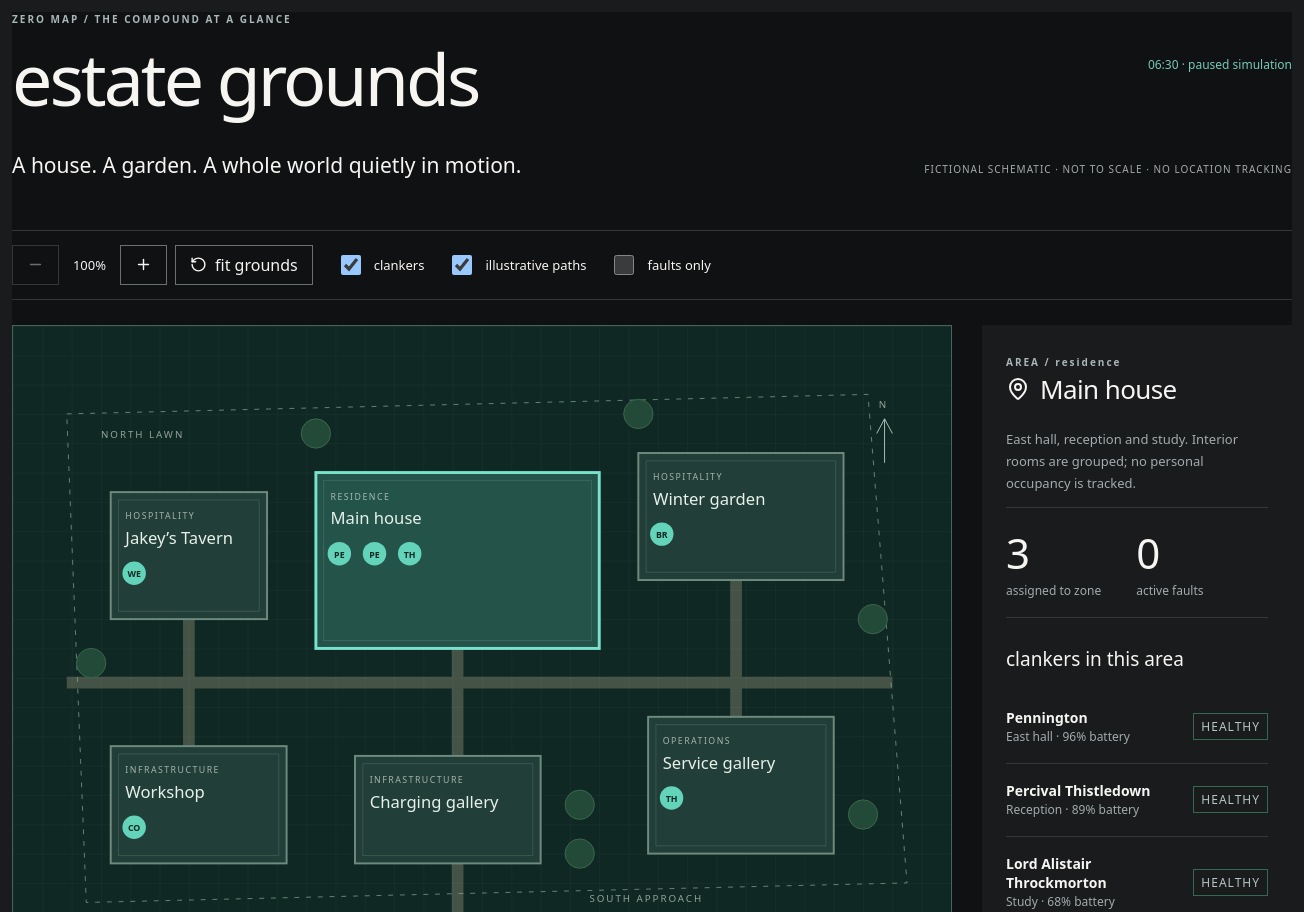
Test: selects zones by keyboard and opens the correct fleet profile
Press Enter in the button "Inspect Workshop", box x1=125 y1=764 x2=220 y2=802
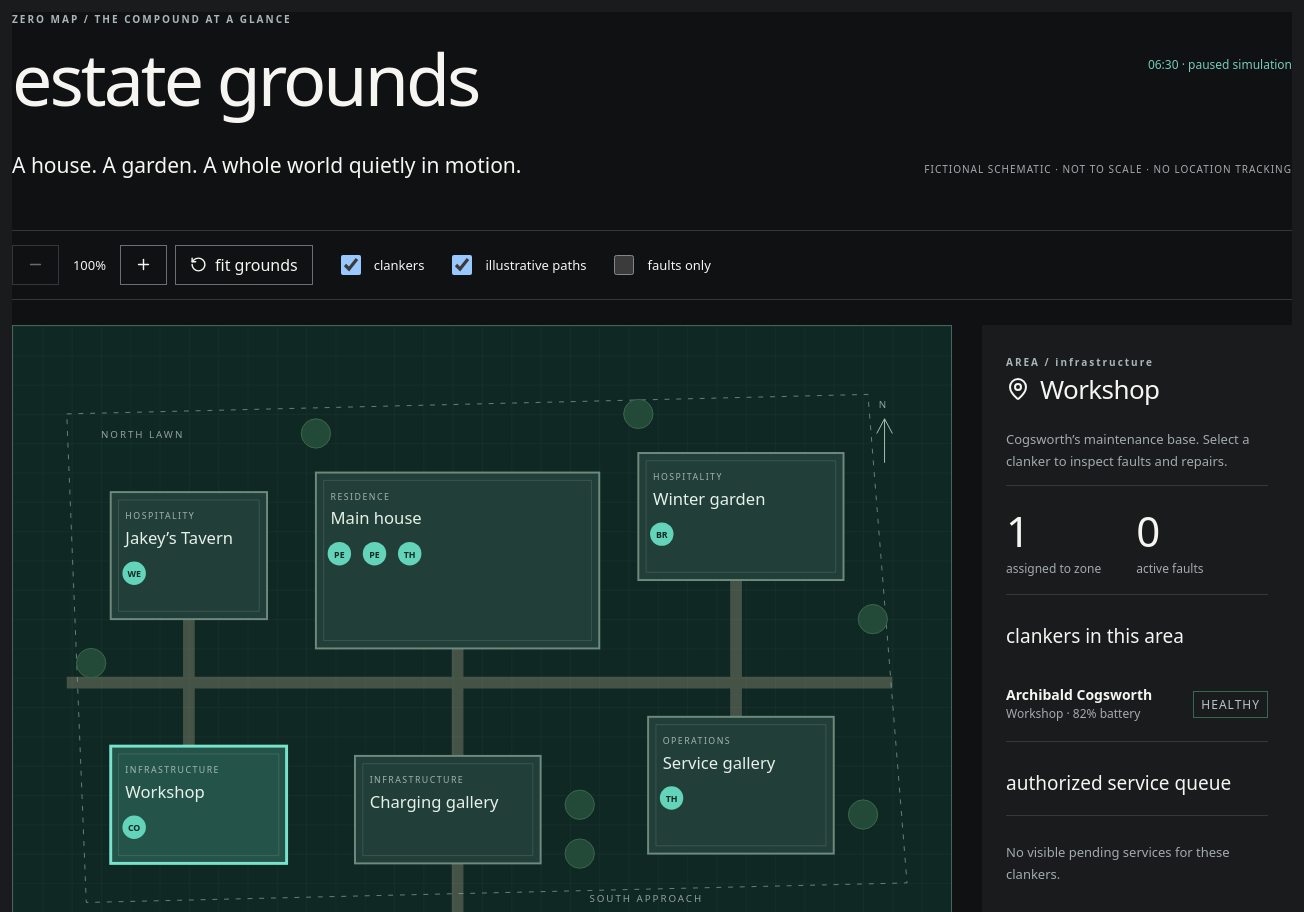
Expected: the heading "Workshop" is shown, x1=1006 y1=370 x2=1160 y2=406
Click the button named "Zoom in" at {"x": 144, "y": 264}, box x1=120 y1=244 x2=167 y2=284
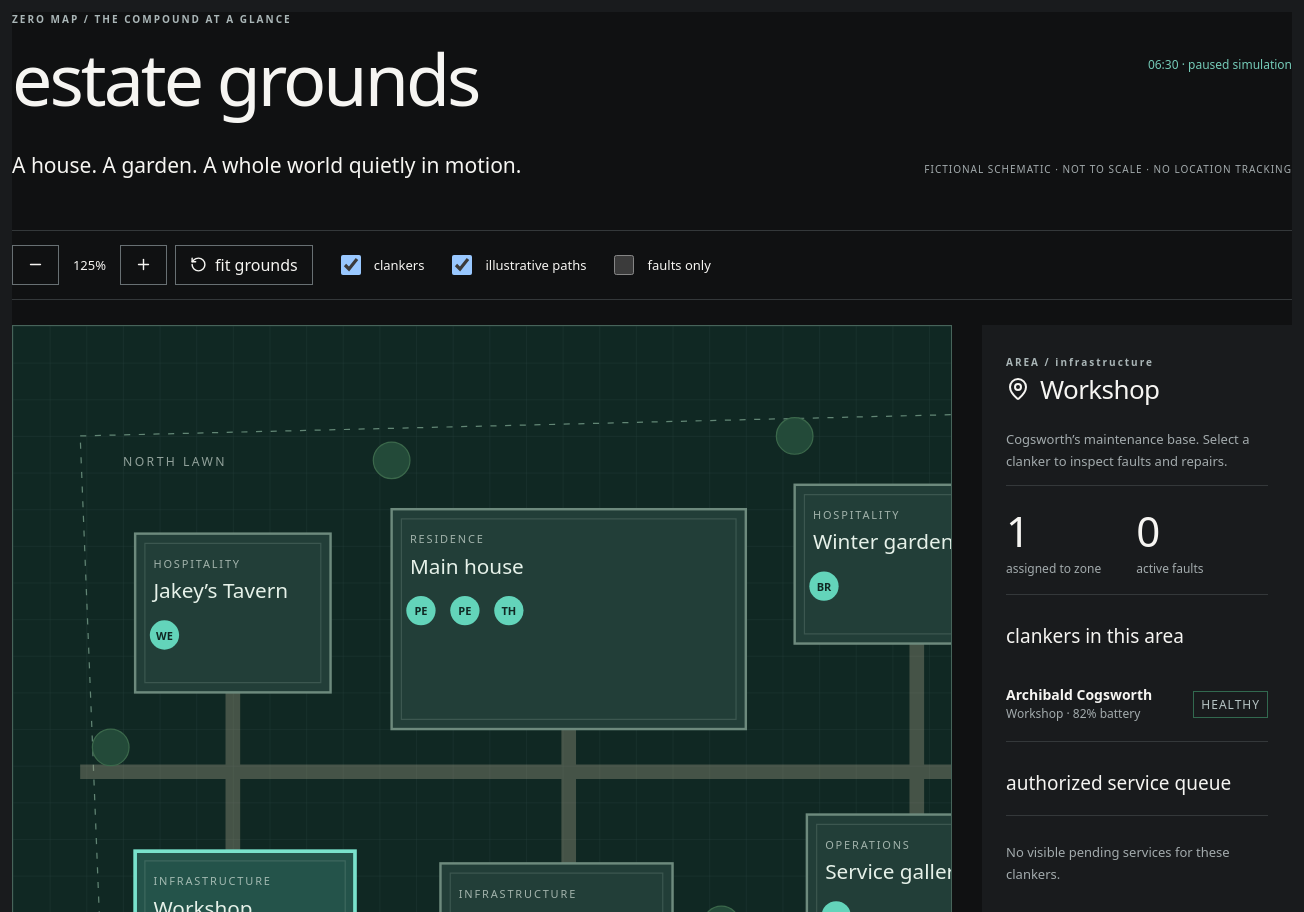
Expected: the text named "Map zoom" reads "125%", x1=73 y1=256 x2=106 y2=274
